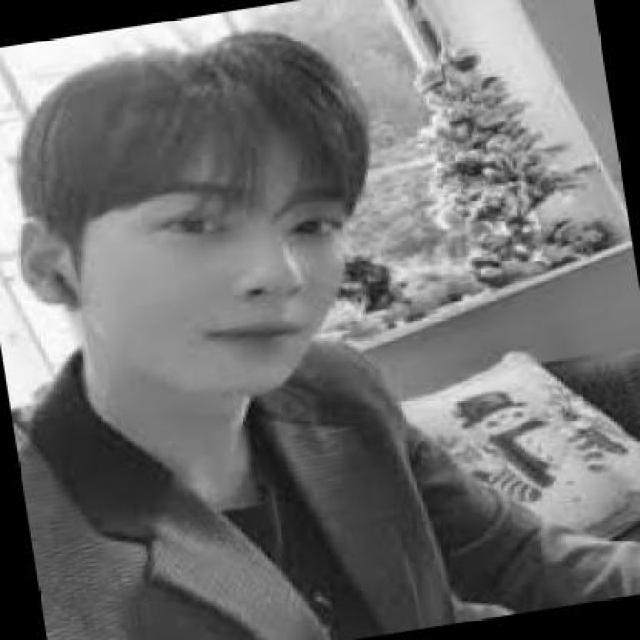earphone: (20, 260, 101, 314)
